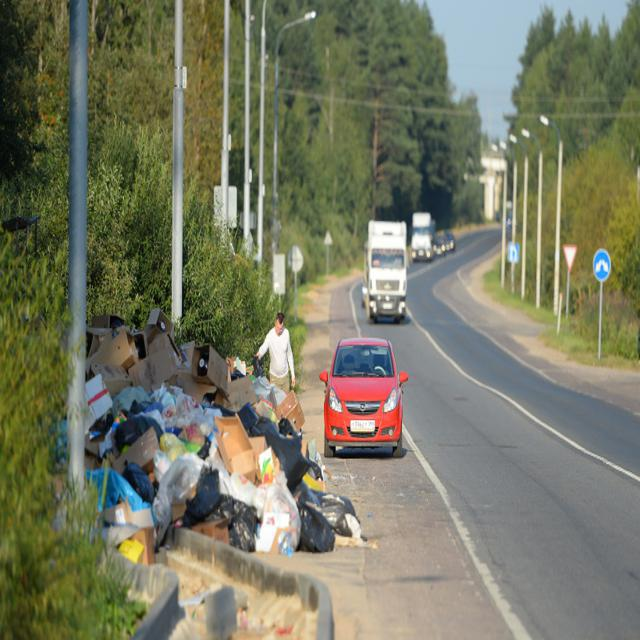lixeira: (61, 307, 366, 555)
